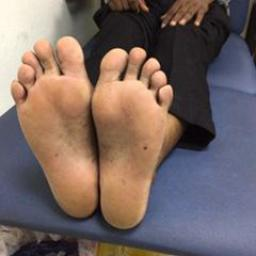Plantar View -Both Feet-: (6, 29, 182, 243)
